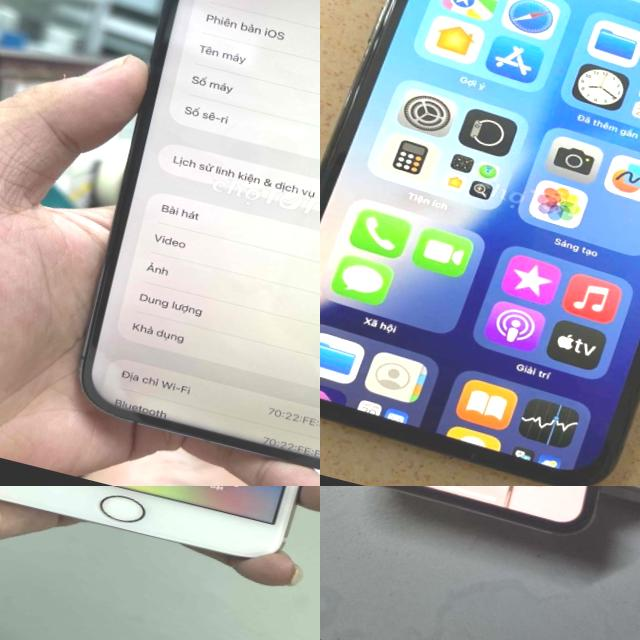gen_14: (29, 0, 320, 486)
gen_7_8: (0, 486, 320, 582)
gen_x_xs: (320, 0, 640, 486), (320, 486, 640, 550)
